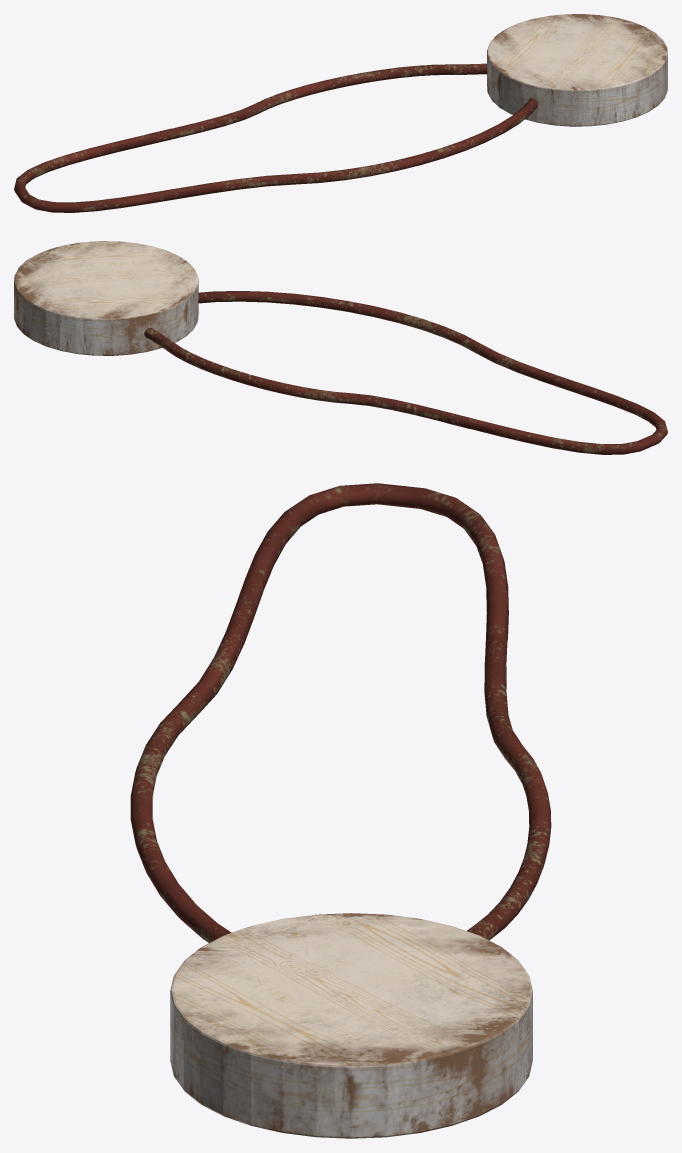
Rendered from talisman rond.fbx.
The picture shows the model from 3 angles, top to bottom: view 1: azimuth 30°, elevation 25°; view 2: azimuth 150°, elevation 25°; view 3: azimuth 270°, elevation 25°; orthographic projection. The views are drawn at different scales.
Parts seen in each view (by area): view 1: talisman rond; view 2: talisman rond; view 3: talisman rond.
Boxes of the visible parts, x1=… form: talisman rond: x1=14, y1=14, x2=667, y2=212; talisman rond: x1=14, y1=241, x2=667, y2=454; talisman rond: x1=130, y1=483, x2=551, y2=1138.
Size of the model in its own units: 70.18 by 3.97 by 20.34.
1 material, 1 textured.
